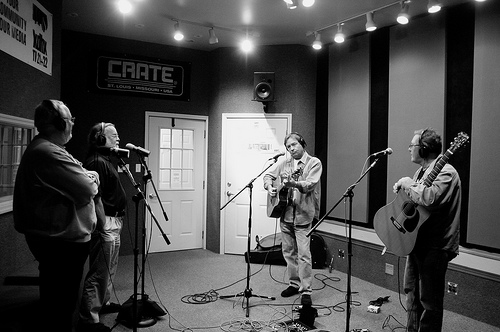guitar: (372, 130, 471, 257), (265, 162, 306, 220)
